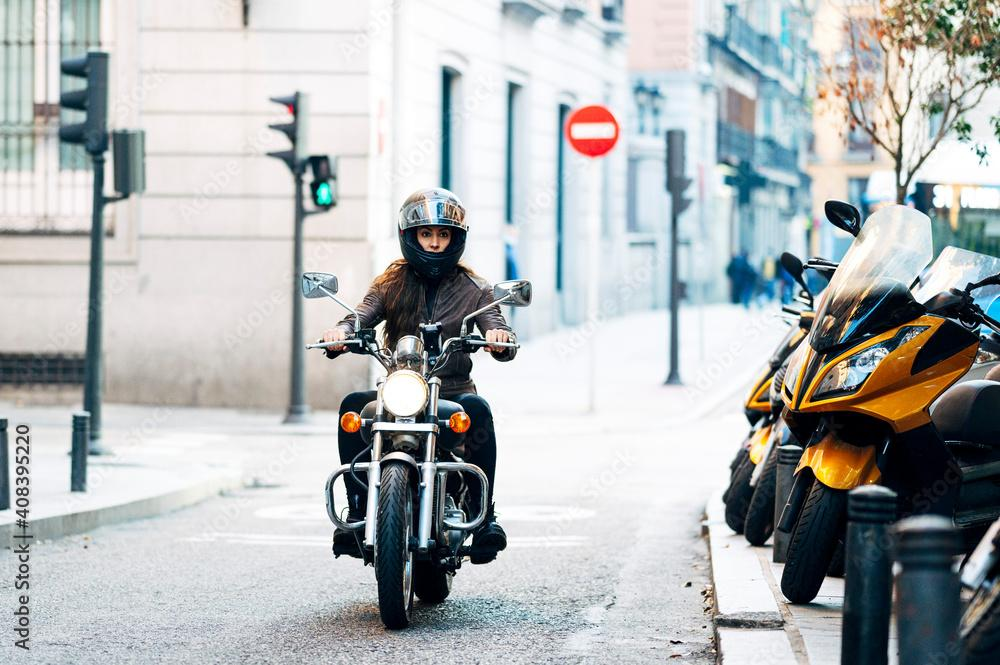helmet: (397, 186, 470, 280)
